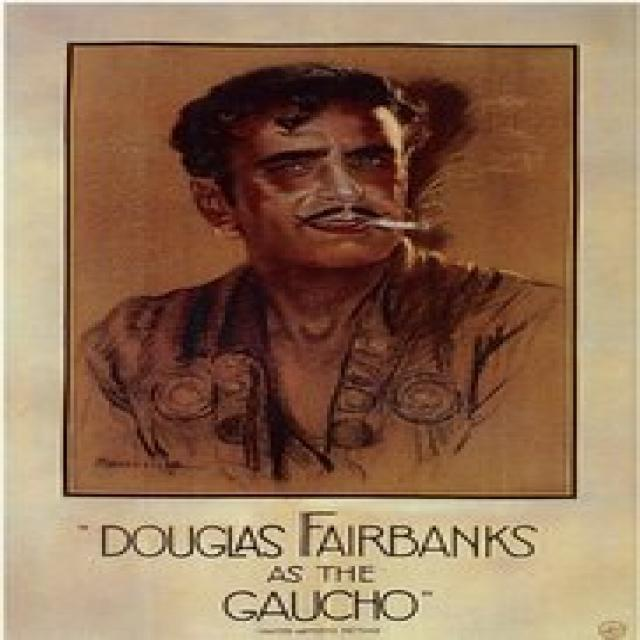movie-judul: (69, 506, 551, 631)
picture: (73, 47, 576, 496)
